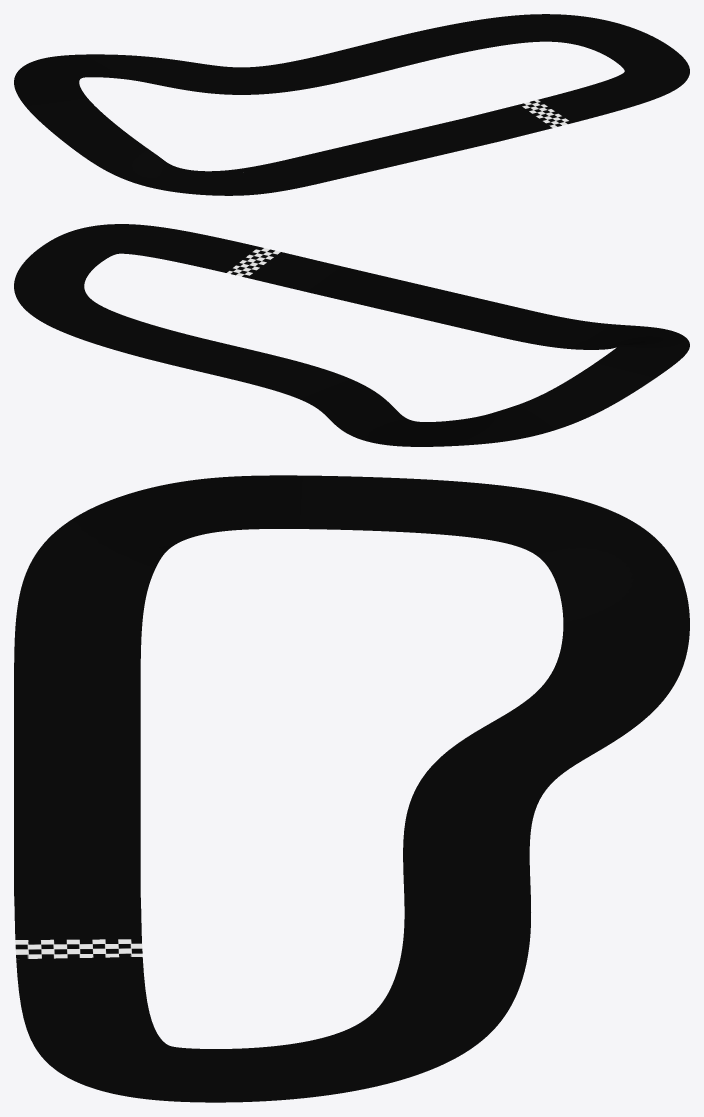
Rendered from HelpDeskTrack.glb.
The picture shows the model from 3 angles, top to bottom: view 1: azimuth 30°, elevation 25°; view 2: azimuth 150°, elevation 25°; view 3: azimuth 270°, elevation 25°; orthographic projection. The views are drawn at different scales.
Parts seen in each view (by area): view 1: Plane; view 2: Plane; view 3: Plane.
Part boxes in pixels (x1,y1,x2,y2): Plane: (14, 14, 689, 195); Plane: (14, 224, 689, 446); Plane: (14, 475, 689, 1102).
Size of the model in its own units: 174 by 10.12 by 89.11.
2 materials, 1 textured.
